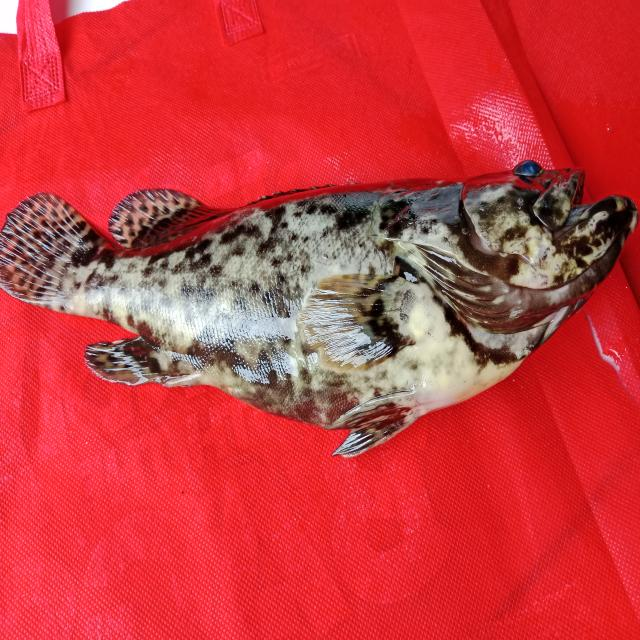ikan: (7, 120, 631, 470)
